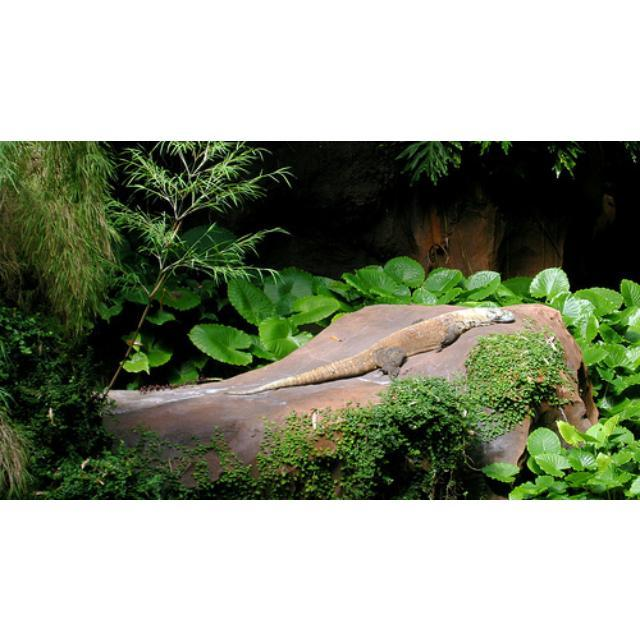KomodoDragon: (226, 297, 517, 400)
